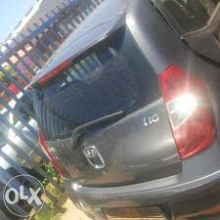no damage: (26, 1, 220, 220)
